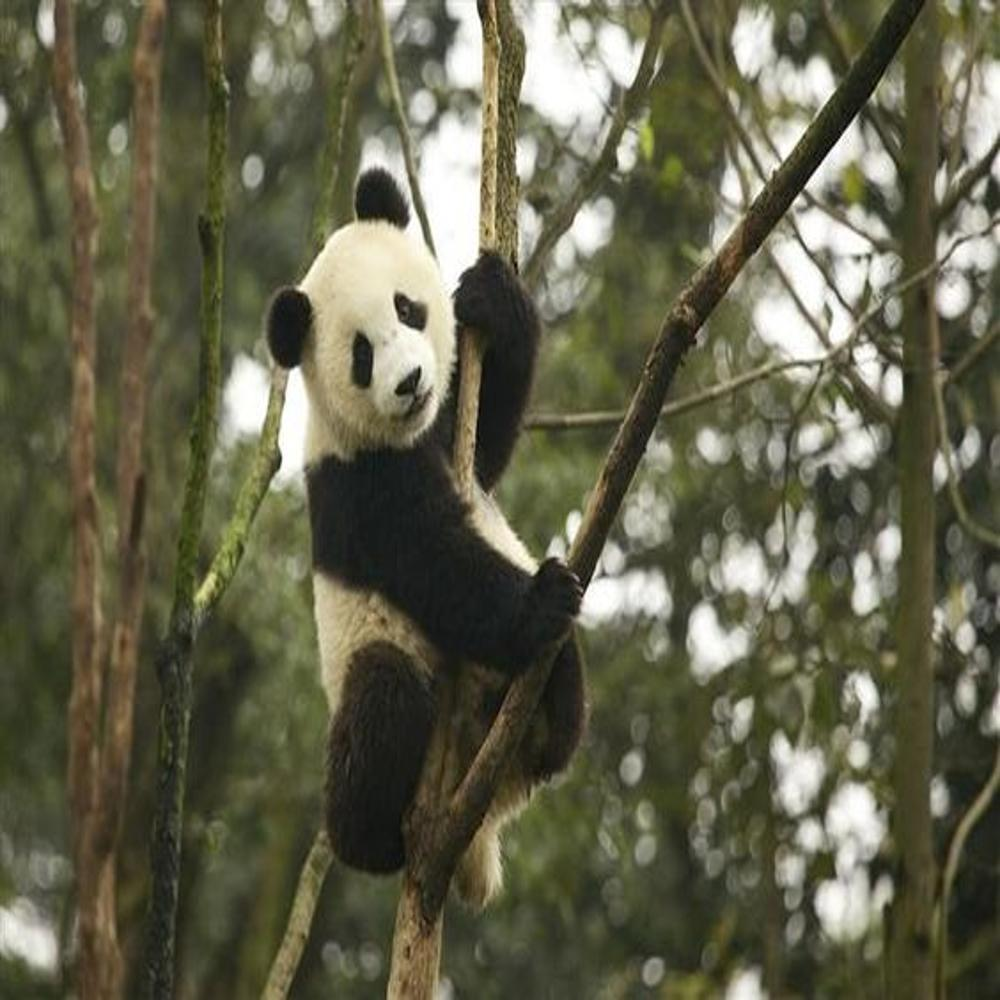panda: (260, 162, 602, 910)
